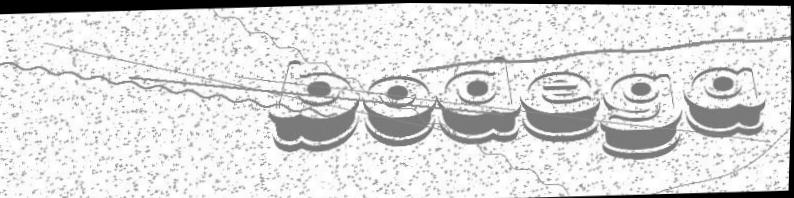a: (683, 63, 767, 137)
b: (267, 57, 362, 154)
d: (435, 54, 523, 147)
e: (521, 68, 602, 141)
g: (598, 68, 688, 159)
o: (361, 73, 439, 147)
